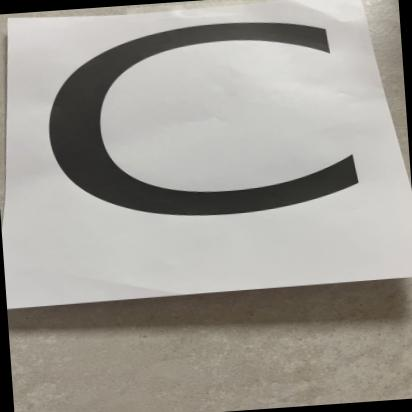seat: (7, 0, 412, 320)
